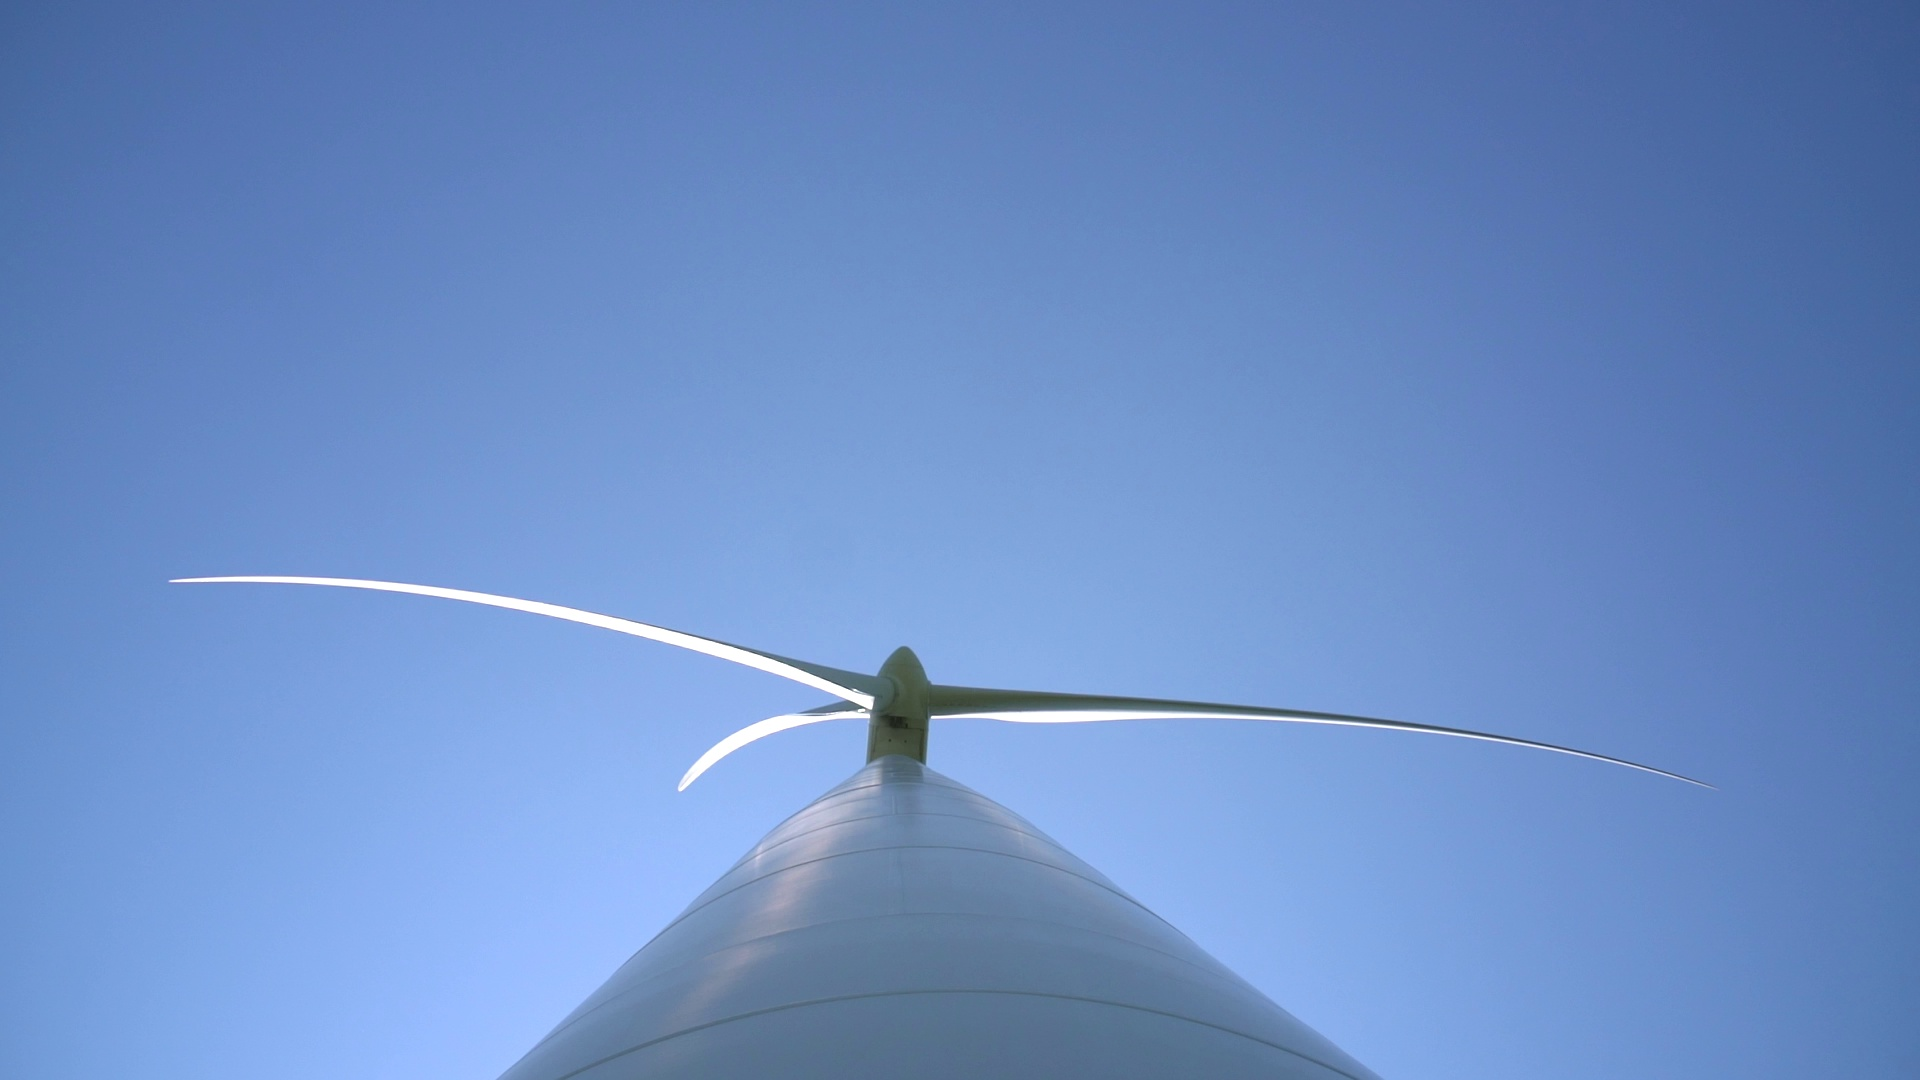turbine: (924, 633, 1739, 823), (187, 516, 899, 724), (630, 694, 872, 804)
